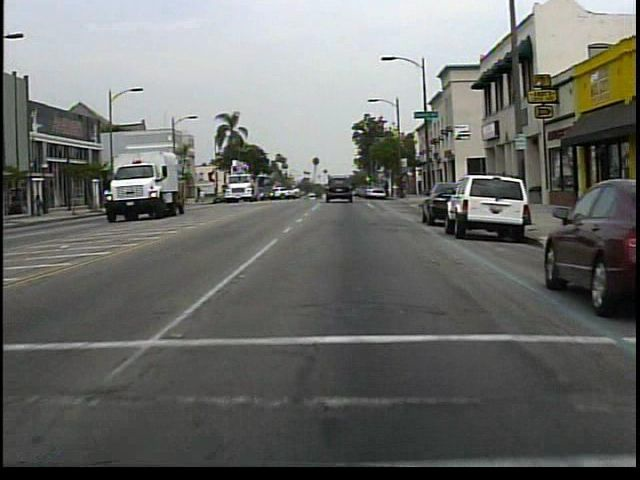person: (37, 192, 47, 219)
